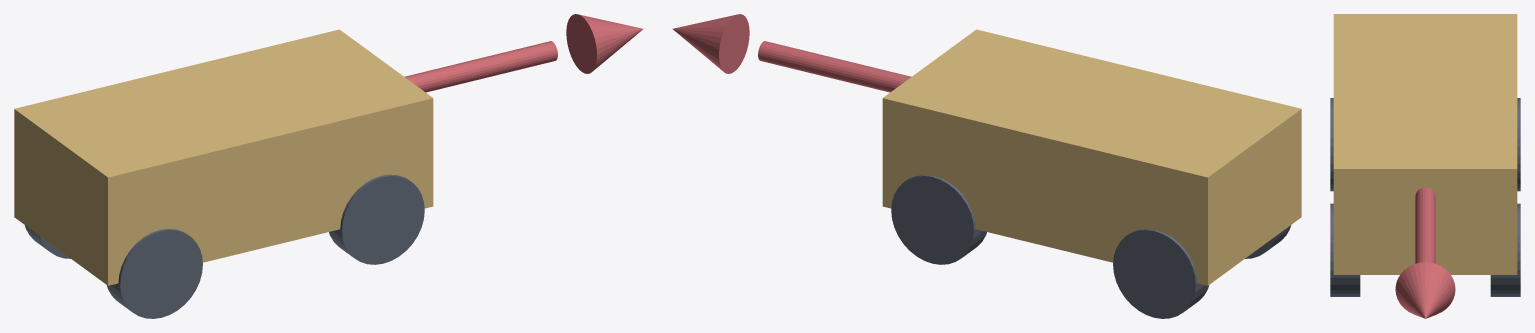
The model's file is force-cart.glb.
3 renders of one model, left to right at view 1: azimuth 30°, elevation 25°; view 2: azimuth 150°, elevation 25°; view 3: azimuth 270°, elevation 25°, orthographic. The views are drawn at different scales.
Parts seen in each view (by area): view 1: cart_body, world; view 2: cart_body, world; view 3: cart_body, world.
Boxes of the visible parts, x1,y1,x2,y2 form: cart_body: [14, 29, 433, 285]; world: [24, 14, 643, 318]; cart_body: [882, 29, 1301, 285]; world: [672, 14, 1291, 318]; cart_body: [1333, 14, 1517, 274]; world: [1330, 98, 1520, 318].
Bounding box in the file's own units: 3.94 × 0.98 × 1.14.
